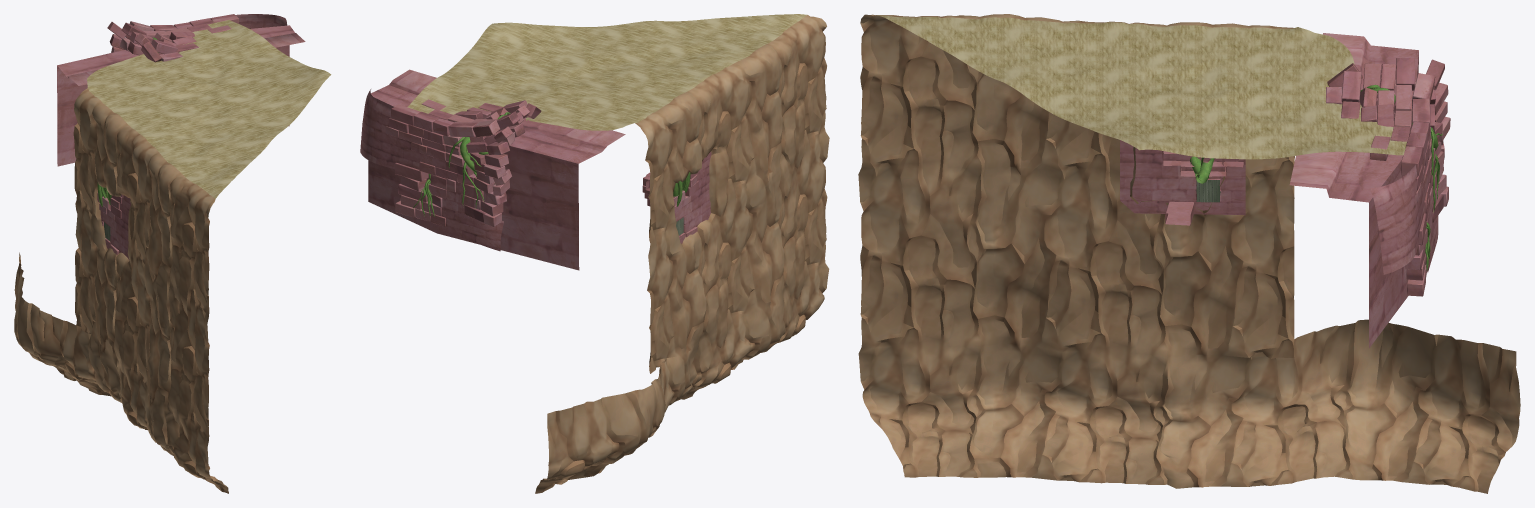
The model's file is SM_ENV_KNFRST_Cliff_Fa.FBX.
3 renders of one model, left to right at view 1: azimuth 30°, elevation 25°; view 2: azimuth 150°, elevation 25°; view 3: azimuth 270°, elevation 25°, orthographic. The views are drawn at different scales.
Visible parts, largest first — view 1: SM_ENV_KNFRST_Cliff_Fa; view 2: SM_ENV_KNFRST_Cliff_Fa; view 3: SM_ENV_KNFRST_Cliff_Fa.
Boxes of the visible parts, bbox=[...] form: SM_ENV_KNFRST_Cliff_Fa: bbox=[14, 14, 331, 493]; SM_ENV_KNFRST_Cliff_Fa: bbox=[360, 14, 829, 493]; SM_ENV_KNFRST_Cliff_Fa: bbox=[858, 14, 1520, 493].
Size of the model in its own units: 3665 by 4226 by 5344.
